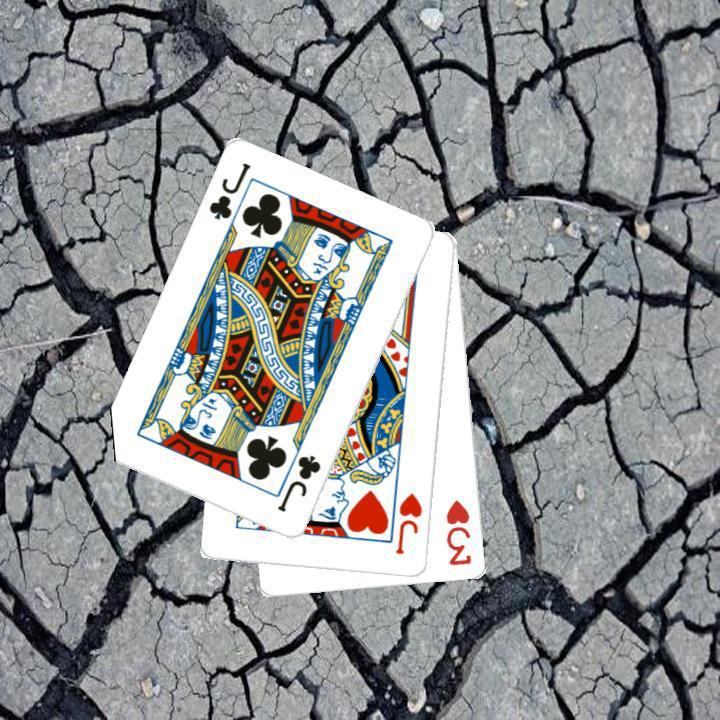3: (442, 496, 474, 568)
J: (273, 451, 323, 515), (204, 159, 254, 223), (392, 489, 425, 557)
